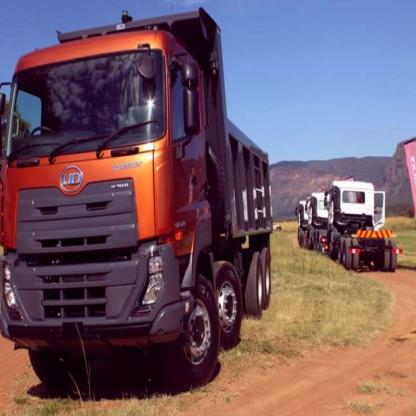dump_truck: (7, 10, 280, 386), (322, 176, 404, 282), (306, 181, 333, 253)
